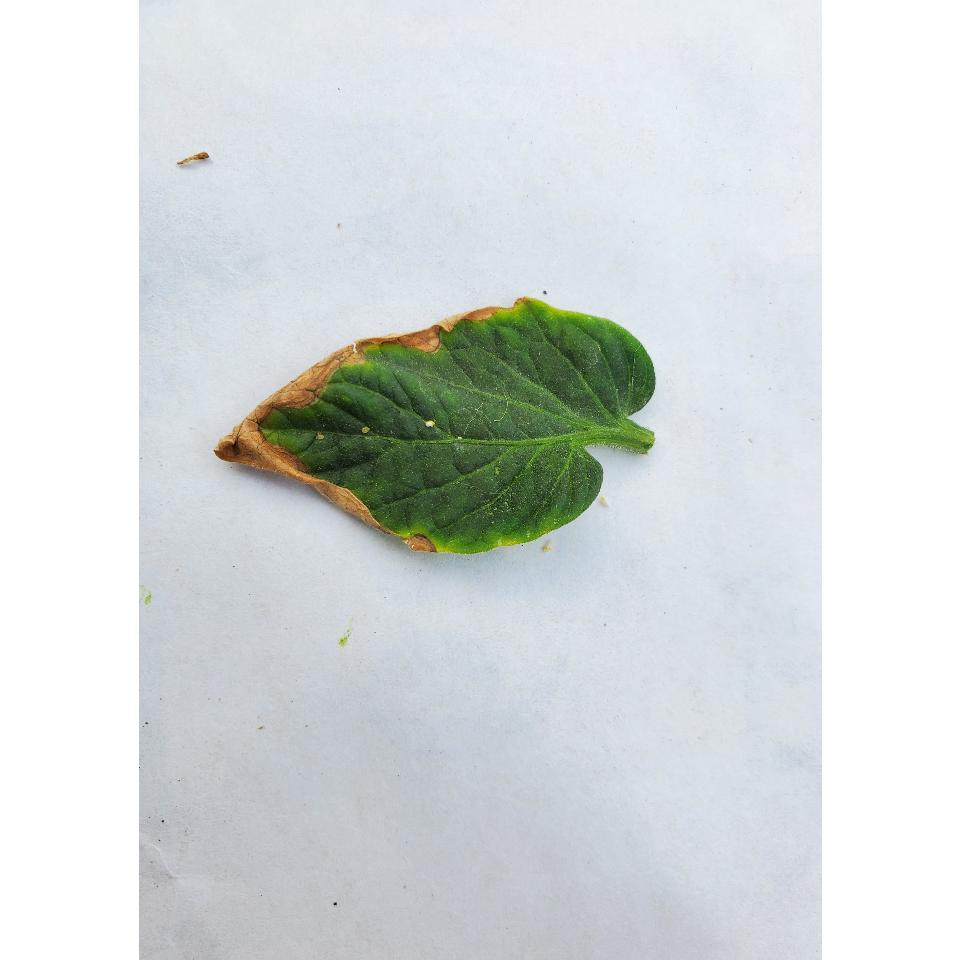tomato_bacterial_blight: (210, 302, 662, 558)
